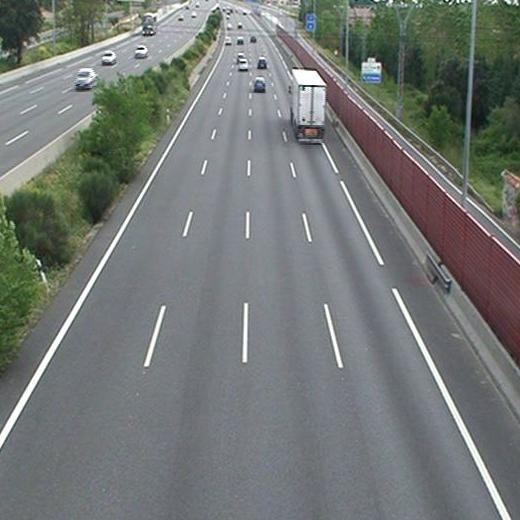car: (254, 78, 266, 91), (238, 59, 248, 70), (257, 58, 266, 67)
truck: (290, 70, 326, 142)
